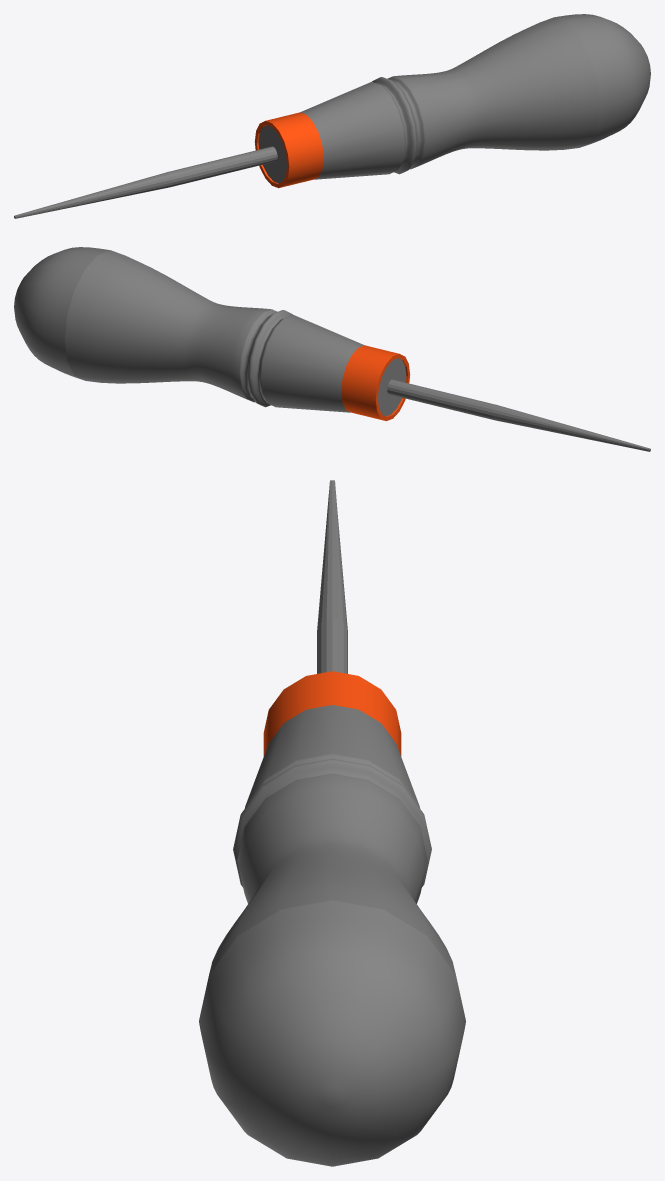
The model's file is Awl_FBX.FBX.
The picture shows the model from 3 angles, top to bottom: view 1: azimuth 30°, elevation 25°; view 2: azimuth 150°, elevation 25°; view 3: azimuth 270°, elevation 25°; orthographic projection. The views are drawn at different scales.
Visible parts, largest first — view 1: Handle, CylindMet; view 2: Handle, CylindMet; view 3: Handle, CylindMet.
Boxes of the visible parts, <box> form: Handle: <box>14,14,650,218</box>; CylindMet: <box>254,112,323,188</box>; Handle: <box>14,247,650,451</box>; CylindMet: <box>341,345,410,421</box>; Handle: <box>199,480,465,1166</box>; CylindMet: <box>263,671,401,756</box>.
Bounding box in the file's own units: 1768 × 325 × 325.
